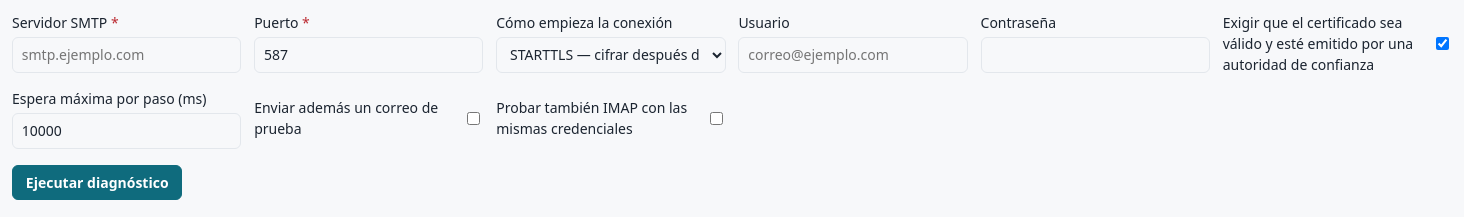
Test: campos que dependen de una casilla › al marcar la casilla aparecen sus campos
Click the checkbox labelled "Probar también IMAP con las mismas credenciales" at x=716, y=118, box [710, 112, 723, 125]
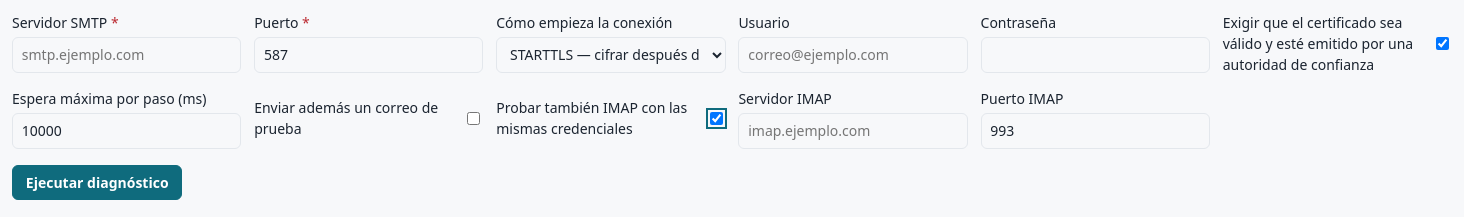
Result: the field labelled "Servidor IMAP" is shown at [738, 113, 968, 149]
Result: the number field labelled "Puerto IMAP" is shown at [980, 113, 1210, 149]
